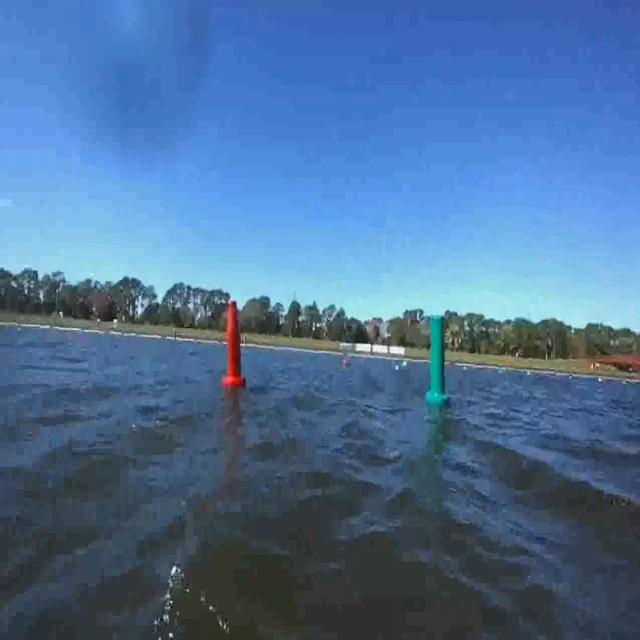green-column-buoy: (425, 314, 450, 406)
red-column-buoy: (222, 298, 246, 390)
